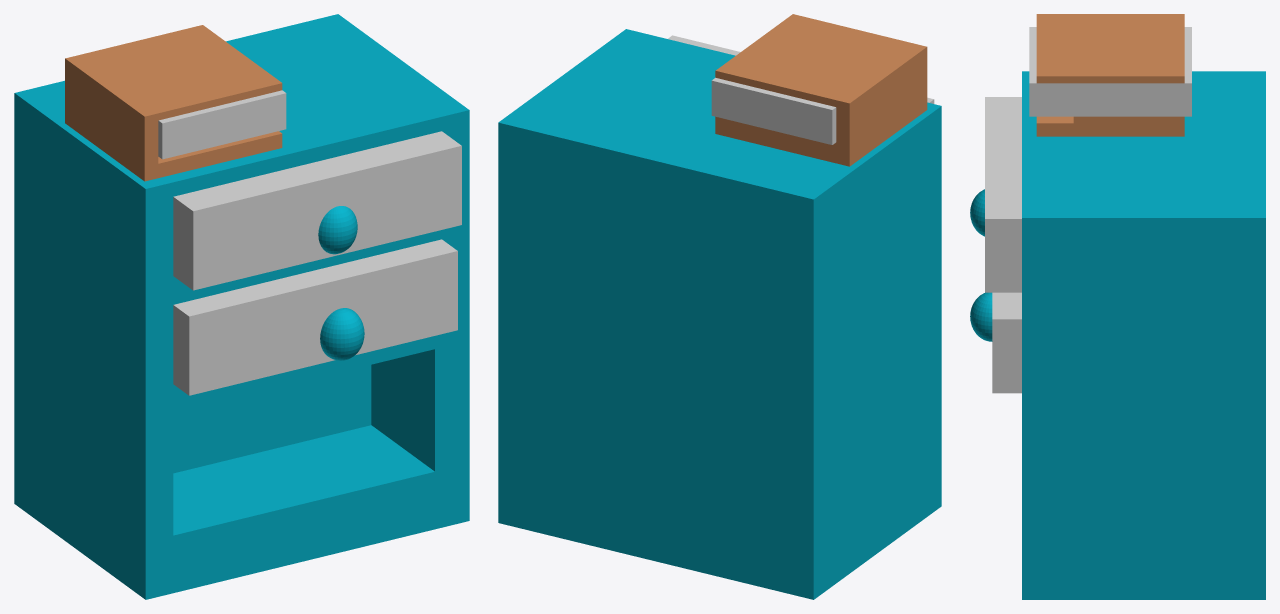
File: Project 149.glb
3 views of the same model, side by side, from view 1: azimuth 30°, elevation 25°; view 2: azimuth 150°, elevation 25°; view 3: azimuth 270°, elevation 25° (orthographic). The views are drawn at different scales.
Parts seen in each view (by area): view 1: Mesh_Mesh_head_geo.001_lambert2SG.001; view 2: Mesh_Mesh_head_geo.001_lambert2SG.001; view 3: Mesh_Mesh_head_geo.001_lambert2SG.001.
Part boxes in pixels (box(x1,y1,x2,y2)): Mesh_Mesh_head_geo.001_lambert2SG.001: box(14, 14, 469, 599); Mesh_Mesh_head_geo.001_lambert2SG.001: box(498, 14, 941, 599); Mesh_Mesh_head_geo.001_lambert2SG.001: box(970, 14, 1265, 599).
Size of the model in its own units: 47 by 66 by 40.
